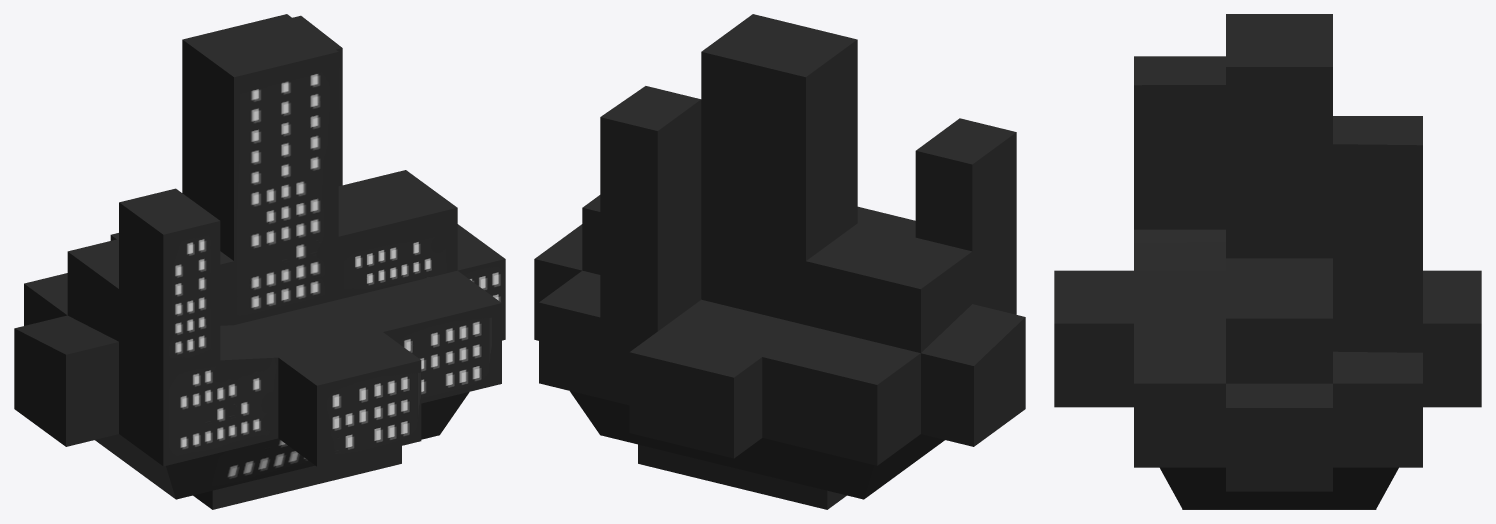
File: Stage9.fbx
3 views of the same model, side by side, from view 1: azimuth 30°, elevation 25°; view 2: azimuth 150°, elevation 25°; view 3: azimuth 270°, elevation 25° (orthographic). The views are drawn at different scales.
Visible parts, largest first — view 1: pCube1; view 2: pCube1; view 3: pCube1.
Boxes of the visible parts, <box> form: pCube1: <box>14,14,505,509</box>; pCube1: <box>534,14,1025,509</box>; pCube1: <box>1054,14,1481,509</box>.
Size of the model in its own units: 90.97 by 80.51 by 73.96.
Materials: 1 (1 with a texture image).
